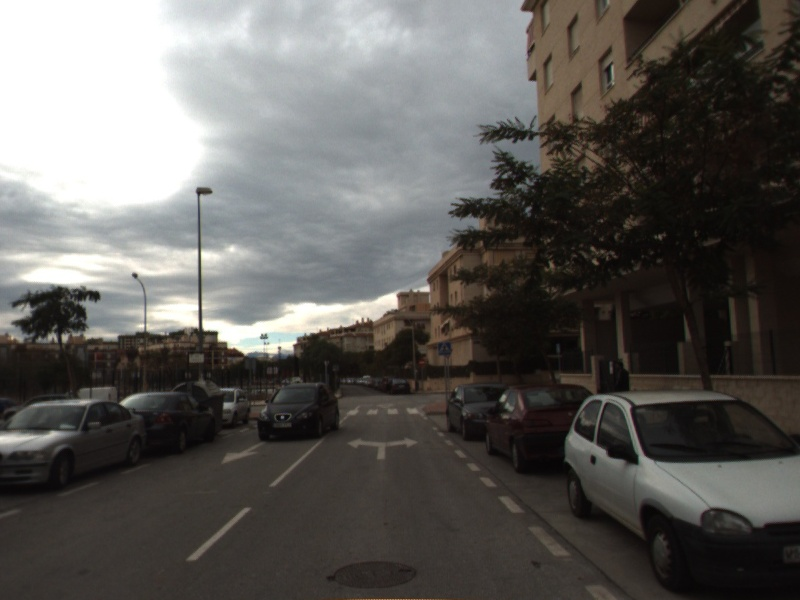LEFT_RIGHT: (345, 434, 421, 461)
